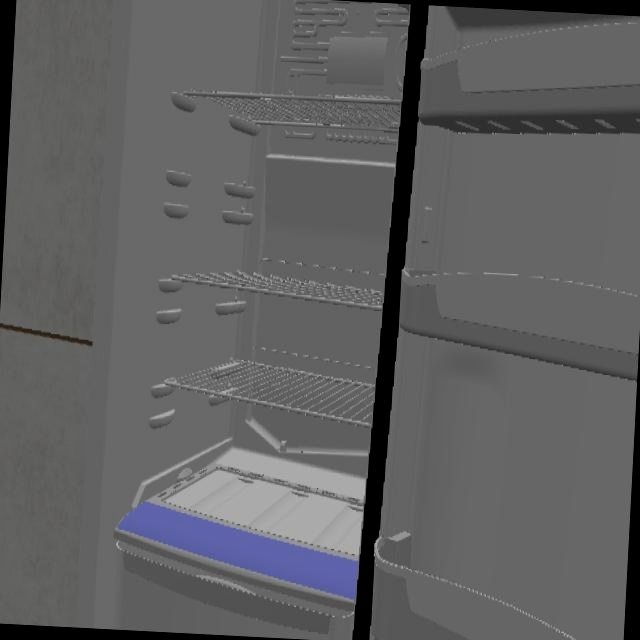fridge: (91, 0, 640, 640)
